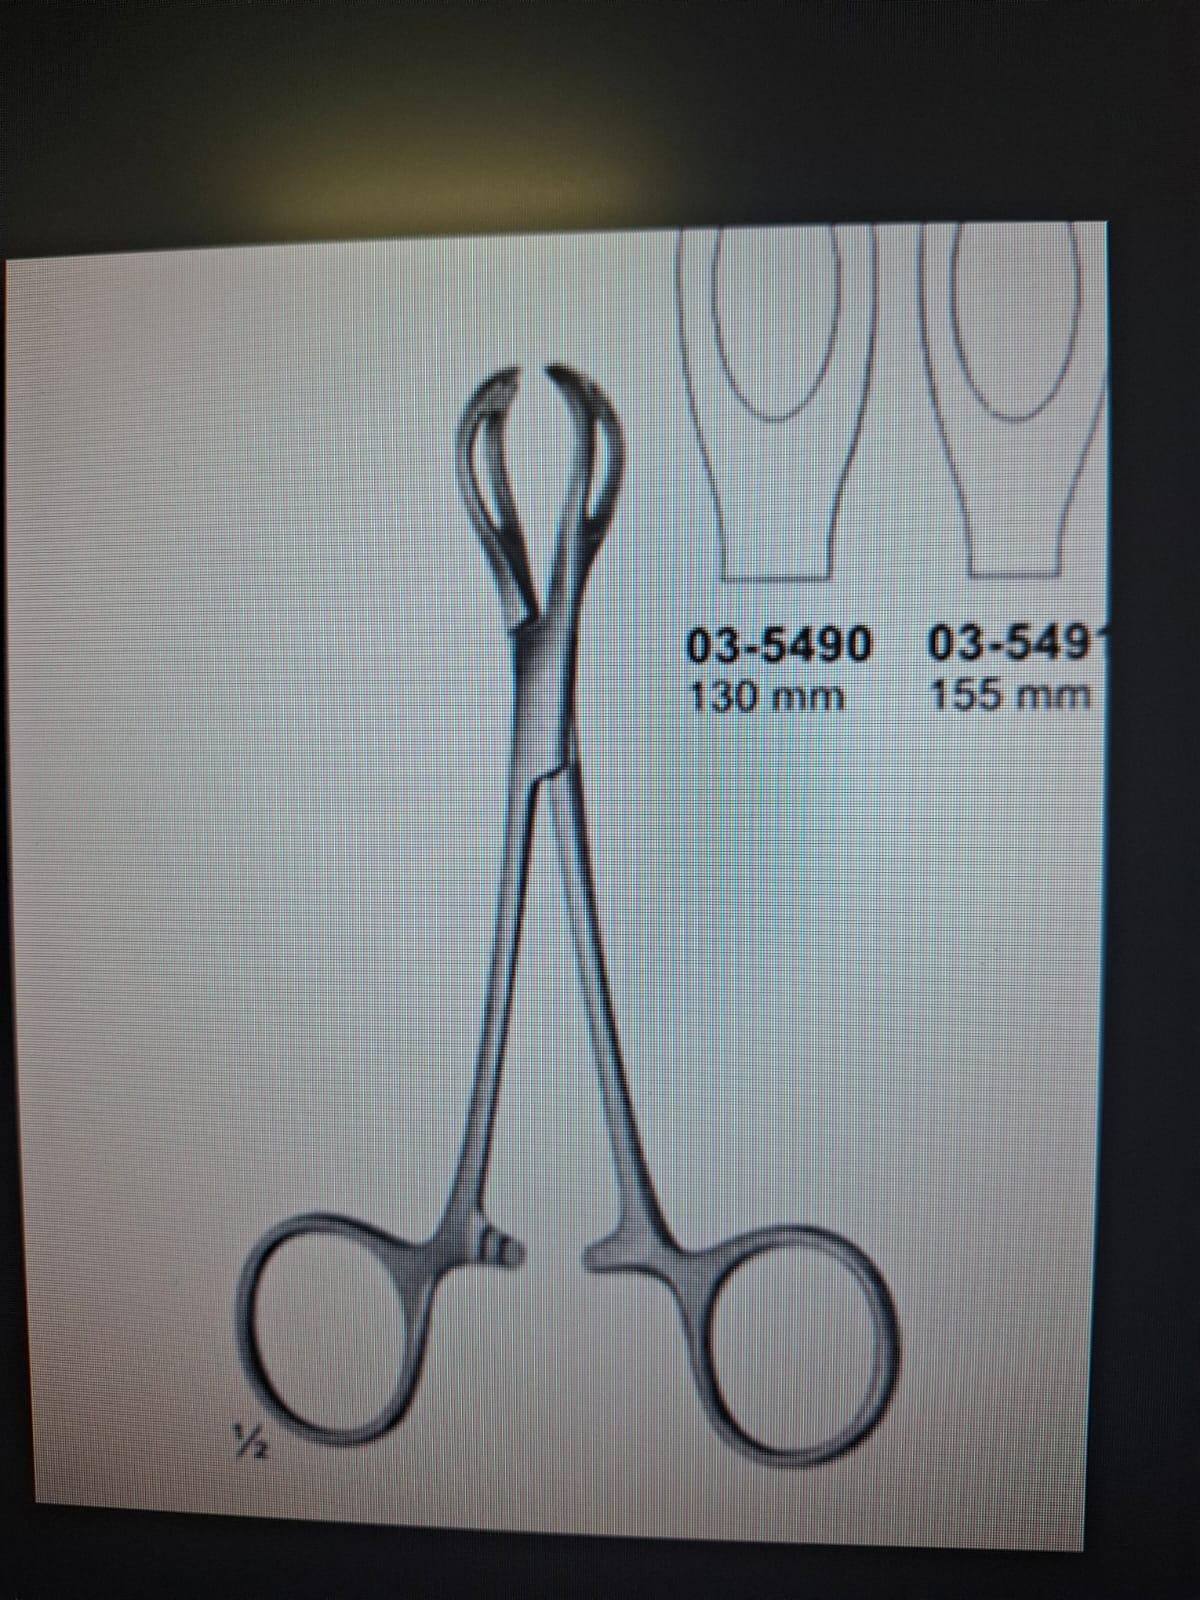Lane Tissue Forceps: (224, 368, 913, 1475)
